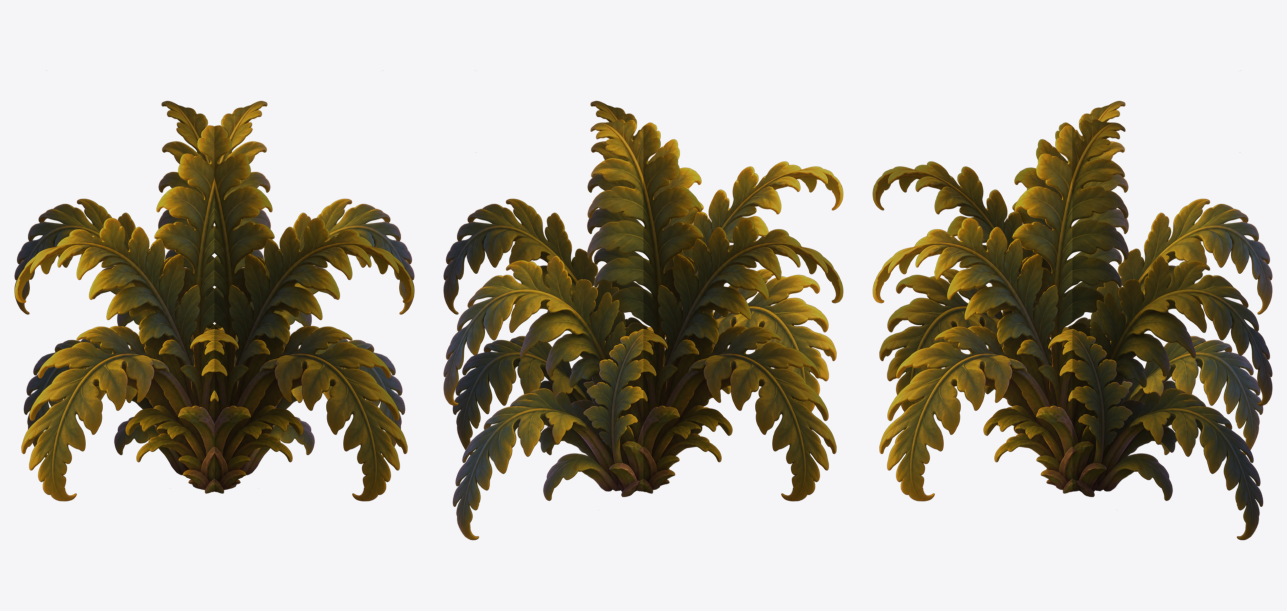
Rendered from v4-forest-road-scatter-fern.glb.
3 views of the same model, side by side, from view 1: azimuth 30°, elevation 25°; view 2: azimuth 150°, elevation 25°; view 3: azimuth 270°, elevation 25° (orthographic).
Parts seen in each view (by area): view 1: v4-forest-road-scatter-fern; view 2: v4-forest-road-scatter-fern; view 3: v4-forest-road-scatter-fern.
Part boxes in pixels (<box>): v4-forest-road-scatter-fern: <box>14,100,414,501</box>; v4-forest-road-scatter-fern: <box>443,100,843,540</box>; v4-forest-road-scatter-fern: <box>872,100,1272,540</box>.
Size of the model in its own units: 0.7571 by 0.7 by 0.6557.
Materials: 1 (1 with a texture image).
